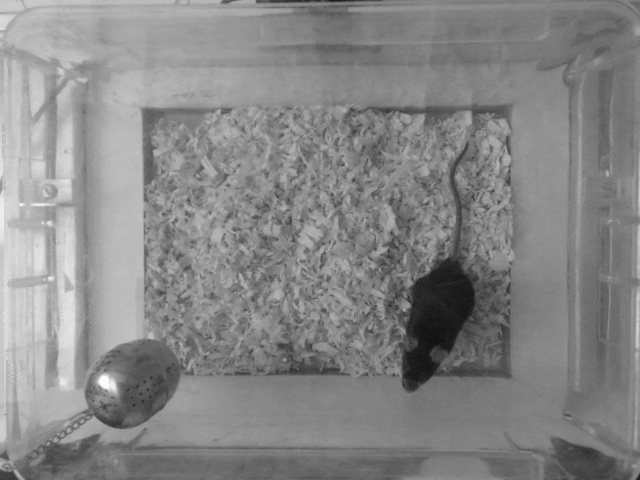mice: (397, 137, 476, 394)
